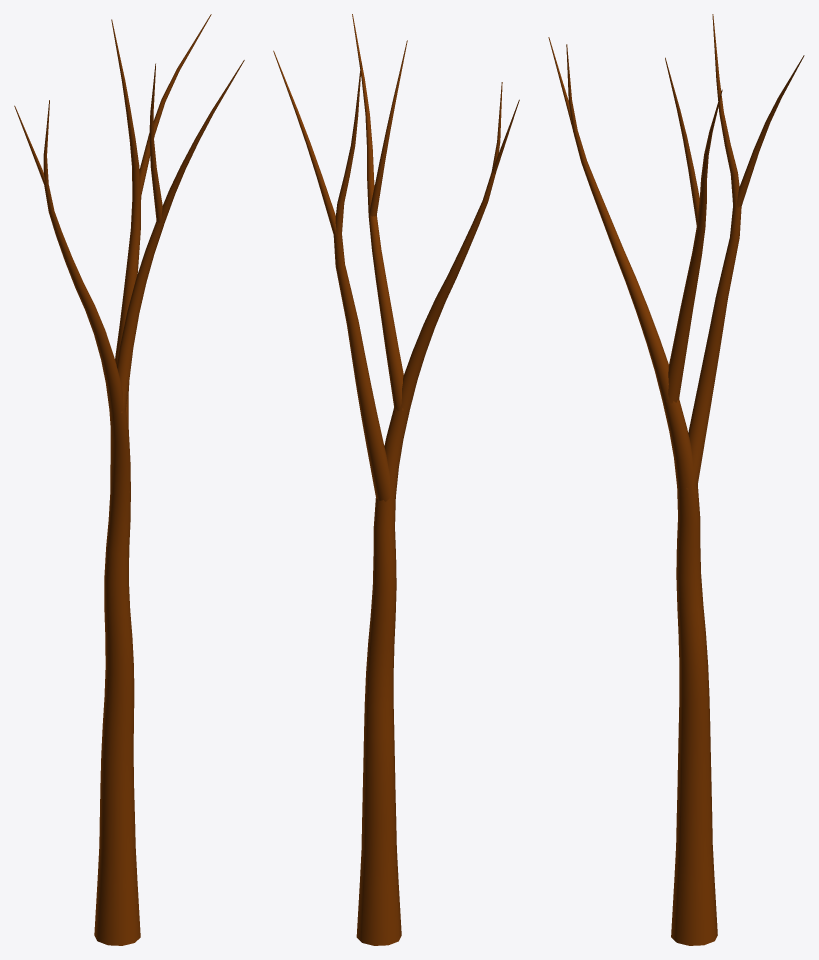
Rendered from TREE_TRUNK_1.fbx.
The picture shows the model from 3 angles, left to right: view 1: azimuth 30°, elevation 25°; view 2: azimuth 150°, elevation 25°; view 3: azimuth 330°, elevation 25°; orthographic projection. The views are drawn at different scales.
Parts seen in each view (by area): view 1: tree.008; view 2: tree.008; view 3: tree.008.
Boxes of the visible parts, x1=… form: tree.008: x1=14, y1=14, x2=244, y2=945; tree.008: x1=273, y1=14, x2=519, y2=945; tree.008: x1=548, y1=14, x2=804, y2=945.
Size of the model in its own units: 128 by 493 by 63.92.
